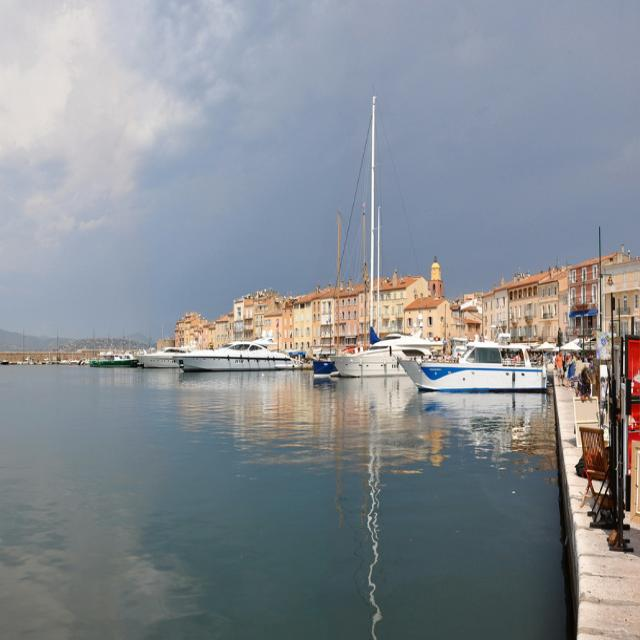fishing boat: (404, 323, 538, 398), (177, 305, 285, 363), (331, 316, 419, 374)
